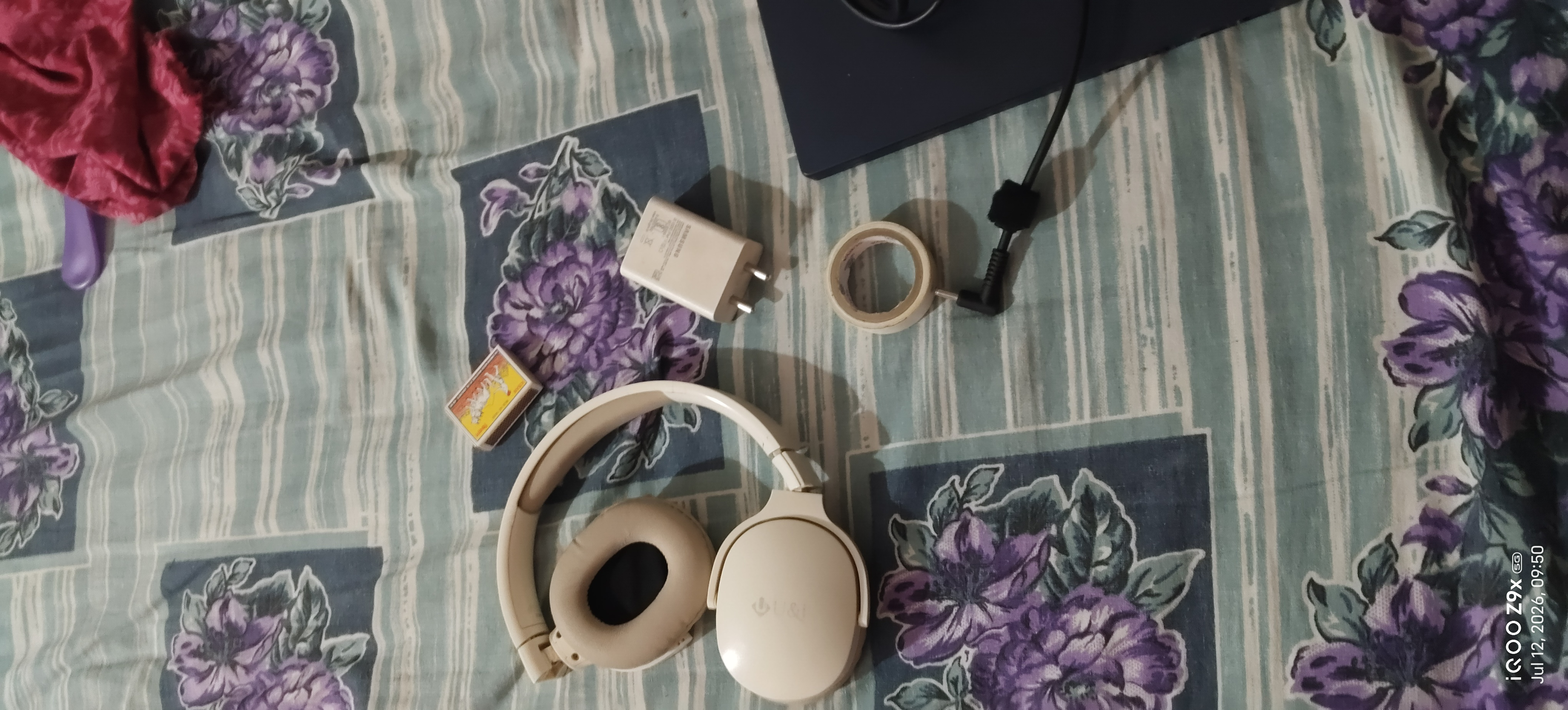charger: (592, 170, 789, 360)
matchbox: (422, 327, 550, 459)
tape_roll: (812, 211, 955, 348)
